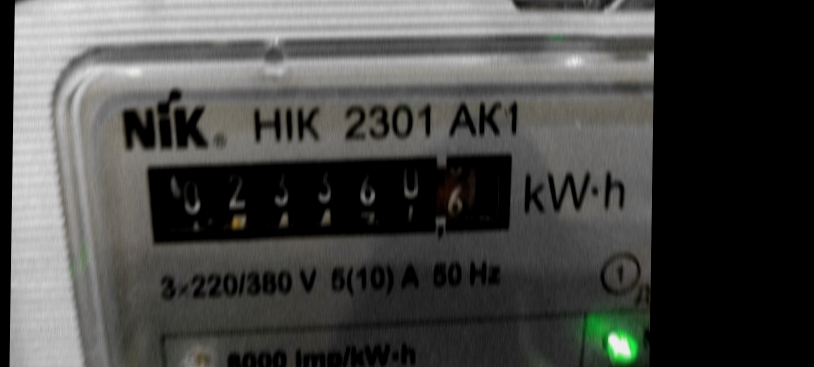0: (180, 173, 206, 216), (400, 162, 424, 199)
2: (224, 168, 251, 208)
3: (313, 165, 336, 204), (271, 167, 293, 207)
6: (355, 166, 382, 207), (447, 181, 469, 218)
screen: (125, 134, 528, 257)
